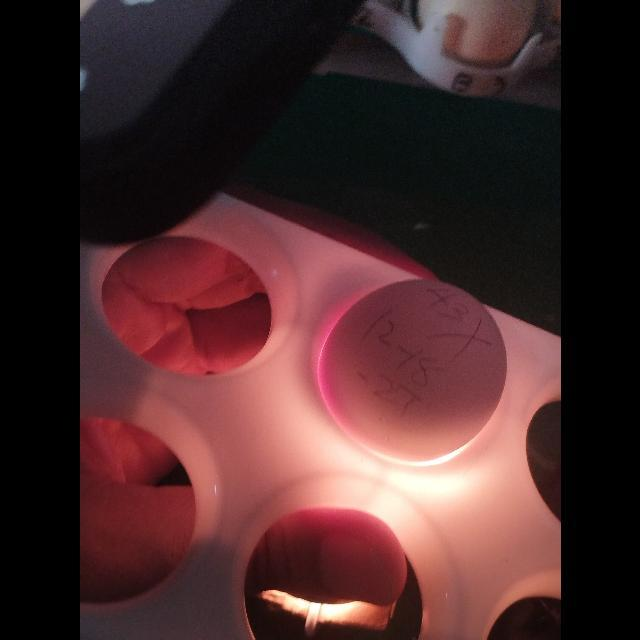Fertile: (315, 276, 511, 464)
